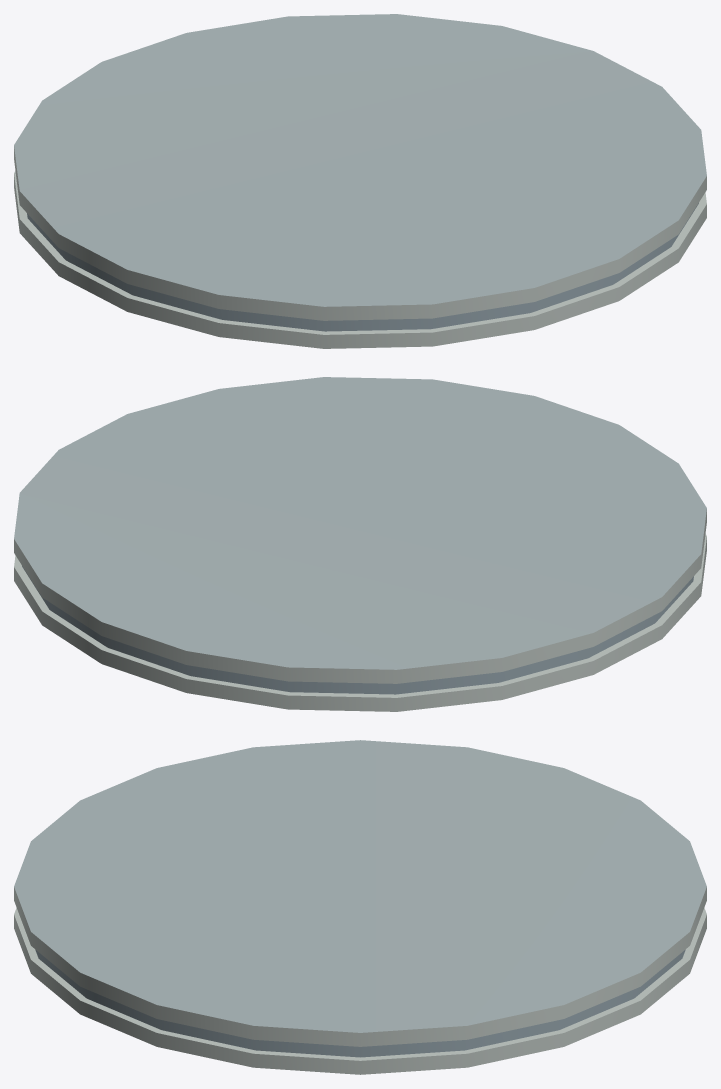
File: Golf Cart Turnstile.glb
3 views of the same model, one above another, from view 1: azimuth 30°, elevation 25°; view 2: azimuth 150°, elevation 25°; view 3: azimuth 270°, elevation 25° (orthographic).
Parts seen in each view (by area): view 1: Golf Cart Turnstile; view 2: Golf Cart Turnstile; view 3: Golf Cart Turnstile.
Boxes of the visible parts, x1,y1,x2,y2 form: Golf Cart Turnstile: [14, 14, 706, 348]; Golf Cart Turnstile: [14, 377, 706, 711]; Golf Cart Turnstile: [14, 740, 706, 1074].
Size of what is drawn, in the model's own units: 6.75 by 0.45 by 6.75.
1 material, 1 textured.
